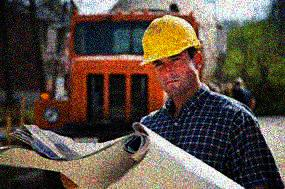helmet: (139, 14, 203, 95)
